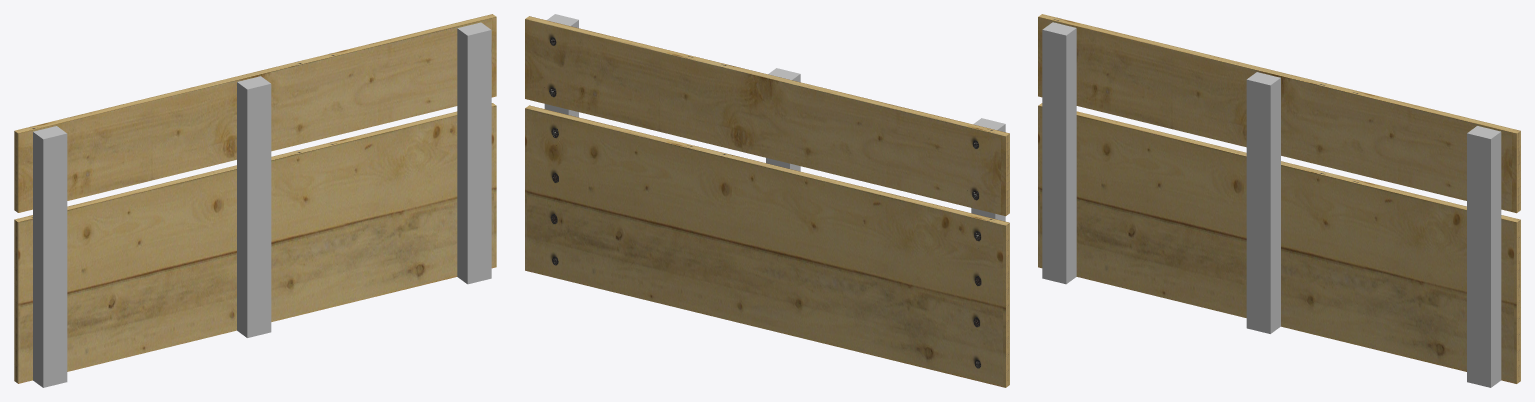
Rendered from Wood4.FBX.
3 views of the same model, side by side, from view 1: azimuth 30°, elevation 25°; view 2: azimuth 150°, elevation 25°; view 3: azimuth 330°, elevation 25° (orthographic).
Visible parts, largest first — view 1: propwood_sml; view 2: propwood_sml; view 3: propwood_sml.
Part boxes in pixels (x1=…): propwood_sml: x1=14, y1=14, x2=496, y2=387; propwood_sml: x1=525, y1=14, x2=1009, y2=387; propwood_sml: x1=1038, y1=14, x2=1520, y2=387.
Size of the model in its own units: 1600 by 800 by 83.31.
